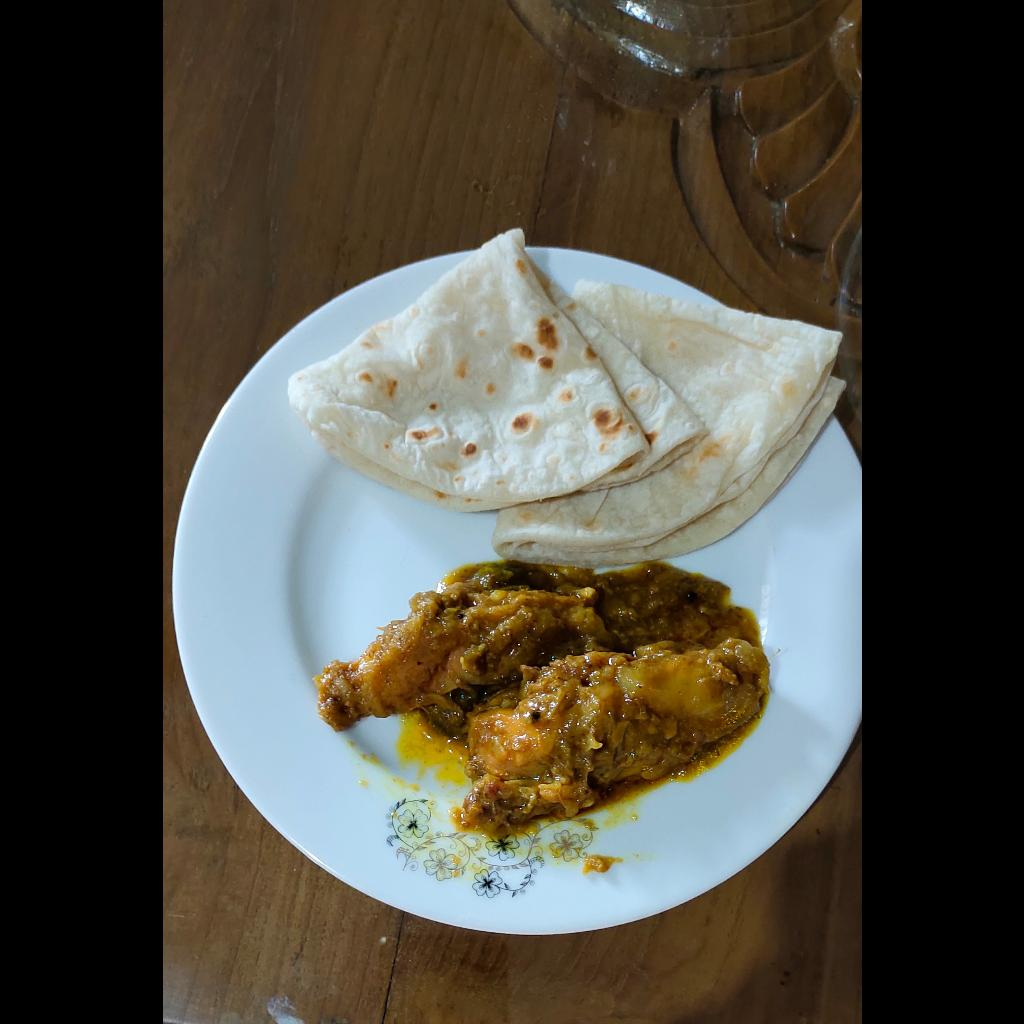chicken: (312, 561, 775, 839)
ruti: (280, 225, 849, 560)
